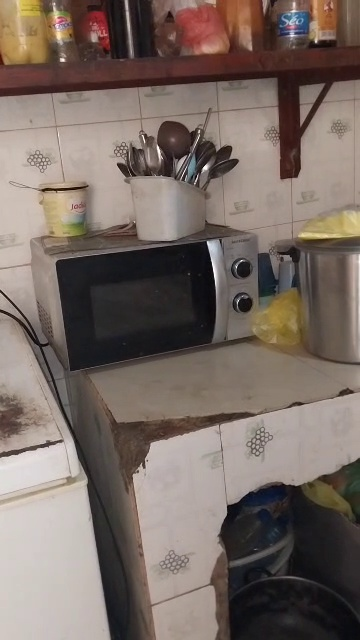microwave: (30, 224, 280, 383)
